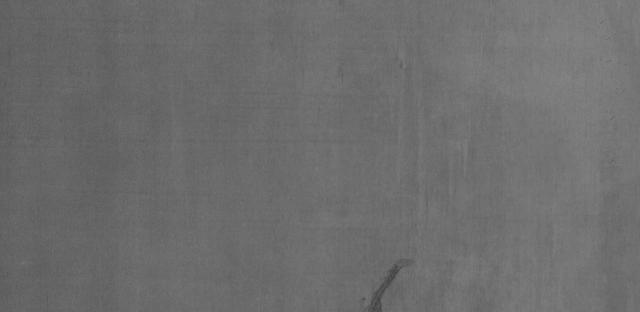water_spot: (340, 234, 421, 312)
